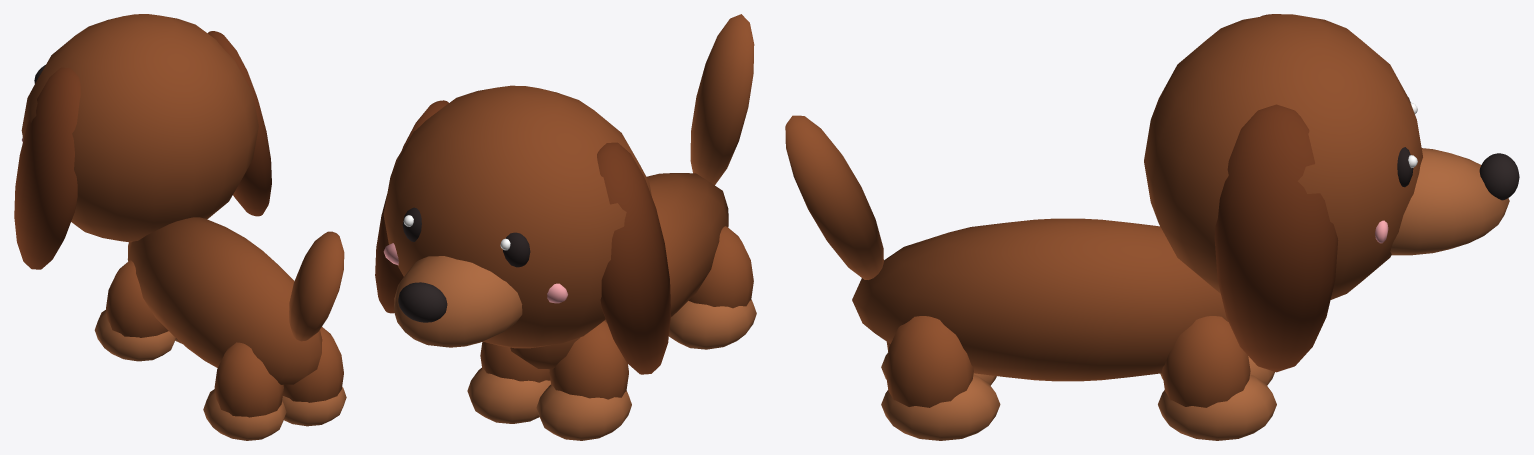
The model's file is dog_dachshund.glb.
3 views of the same model, side by side, from view 1: azimuth 30°, elevation 25°; view 2: azimuth 150°, elevation 25°; view 3: azimuth 270°, elevation 25° (orthographic). The views are drawn at different scales.
Parts seen in each view (by area): view 1: Head, Body, EarL, Tail, LegBL, EarR, LegFL, LegBR, LegBLPaw, LegFLPaw, LegBRPaw; view 2: Head, EarL, Body, Snout, Tail, LegFL, LegFLPaw, LegBLPaw, LegBL, LegFRPaw, EarR, LegFR (+3 smaller); view 3: Head, Body, EarR, Tail, Snout, LegBR, LegFR, LegBRPaw, LegFRPaw, Nose.
Part boxes in pixels (box(x1,y1,x2,y2)): Head: box(21, 14, 258, 242); Body: box(127, 217, 322, 384); EarL: box(14, 67, 80, 269); Tail: box(289, 231, 344, 341); LegBL: box(214, 342, 283, 417); EarR: box(207, 31, 271, 216); LegFL: box(106, 260, 168, 337); LegBR: box(283, 327, 343, 402); LegBLPaw: box(203, 389, 286, 440); LegFLPaw: box(94, 310, 175, 361); LegBRPaw: box(282, 387, 346, 426); Head: box(383, 85, 651, 348); EarL: box(597, 142, 670, 374); Body: box(510, 173, 728, 369); Snout: box(393, 256, 522, 347); Tail: box(690, 14, 754, 185); LegFL: box(549, 321, 628, 399); LegFLPaw: box(536, 384, 631, 440); LegBLPaw: box(669, 299, 756, 349); LegBL: box(688, 226, 753, 308); LegFRPaw: box(467, 368, 550, 423); EarR: box(375, 100, 448, 313); LegFR: box(480, 341, 550, 382); Head: box(1144, 14, 1422, 299); Body: box(852, 218, 1228, 381); EarR: box(1214, 104, 1338, 372); Tail: box(785, 115, 883, 279); Snout: box(1390, 148, 1509, 255); LegBR: box(885, 316, 973, 407); LegFR: box(1162, 316, 1250, 407); LegBRPaw: box(881, 374, 1000, 440); LegFRPaw: box(1158, 374, 1276, 440); Nose: box(1479, 153, 1519, 200).
Size of the model in its own units: 0.6427 by 0.7853 by 1.35.
